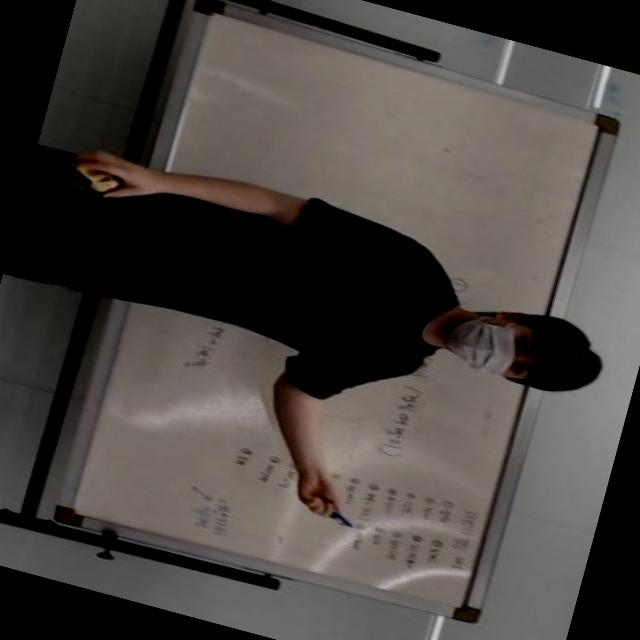Instructor: (64, 140, 617, 424)
White-board: (63, 4, 612, 619)
